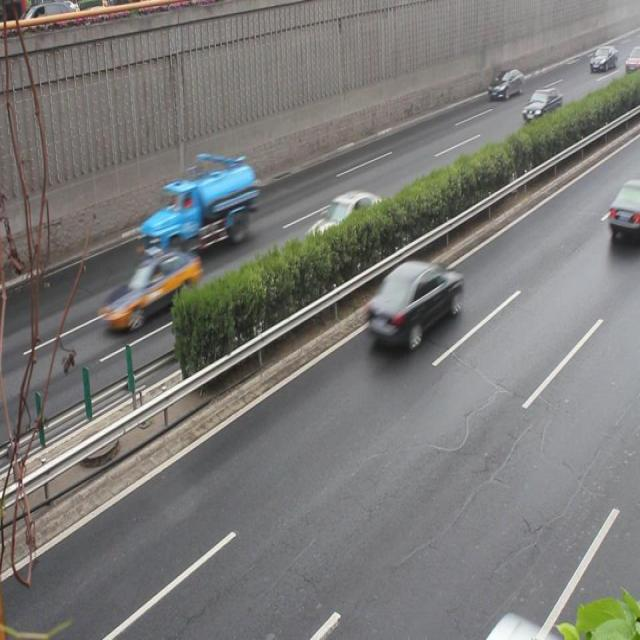bus: (141, 163, 254, 255)
car: (99, 250, 201, 332), (365, 261, 460, 346), (304, 189, 386, 260), (606, 179, 640, 245), (520, 89, 562, 128), (485, 67, 522, 102)
